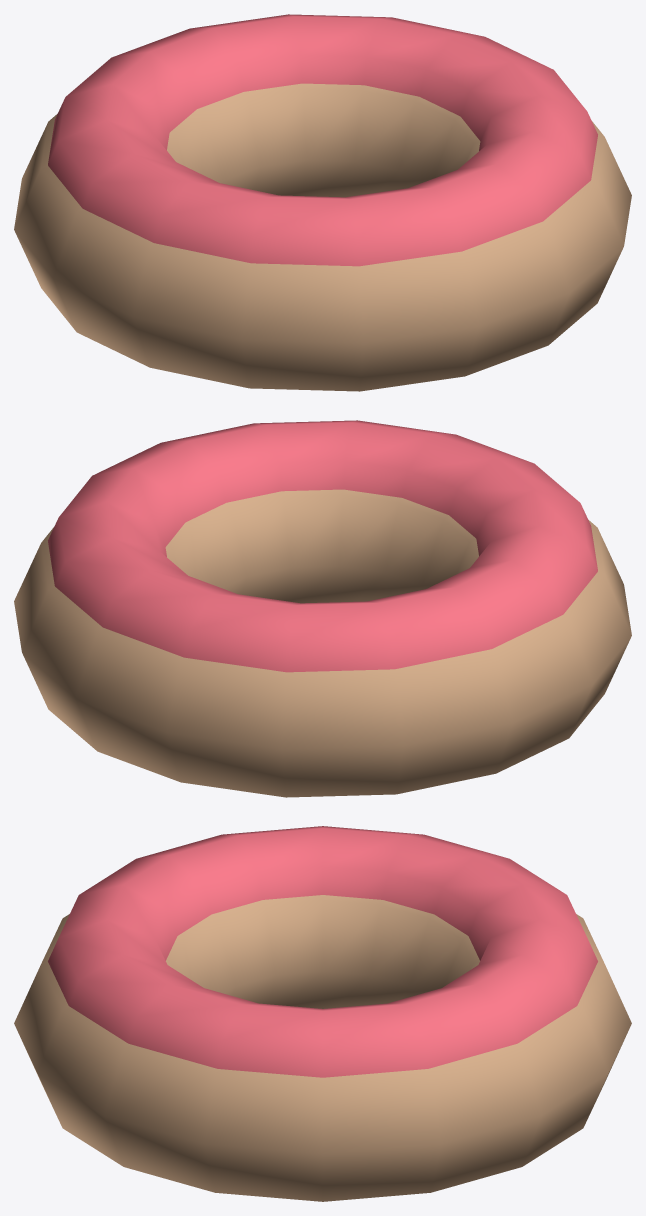
Rendered from food_donut.glb.
3 renders of one model, top to bottom at view 1: azimuth 30°, elevation 25°; view 2: azimuth 150°, elevation 25°; view 3: azimuth 270°, elevation 25°, orthographic.
Parts seen in each view (by area): view 1: food_donut, food_donut_glaze; view 2: food_donut, food_donut_glaze; view 3: food_donut, food_donut_glaze.
Part boxes in pixels (left/top/right/bottom): food_donut: left=14, top=83, right=631, bottom=391; food_donut_glaze: left=48, top=14, right=597, bottom=266; food_donut: left=14, top=489, right=631, bottom=797; food_donut_glaze: left=48, top=420, right=597, bottom=672; food_donut: left=14, top=895, right=631, bottom=1201; food_donut_glaze: left=48, top=826, right=597, bottom=1077.
Size of the model in its own units: 0.2 by 0.067 by 0.2.
